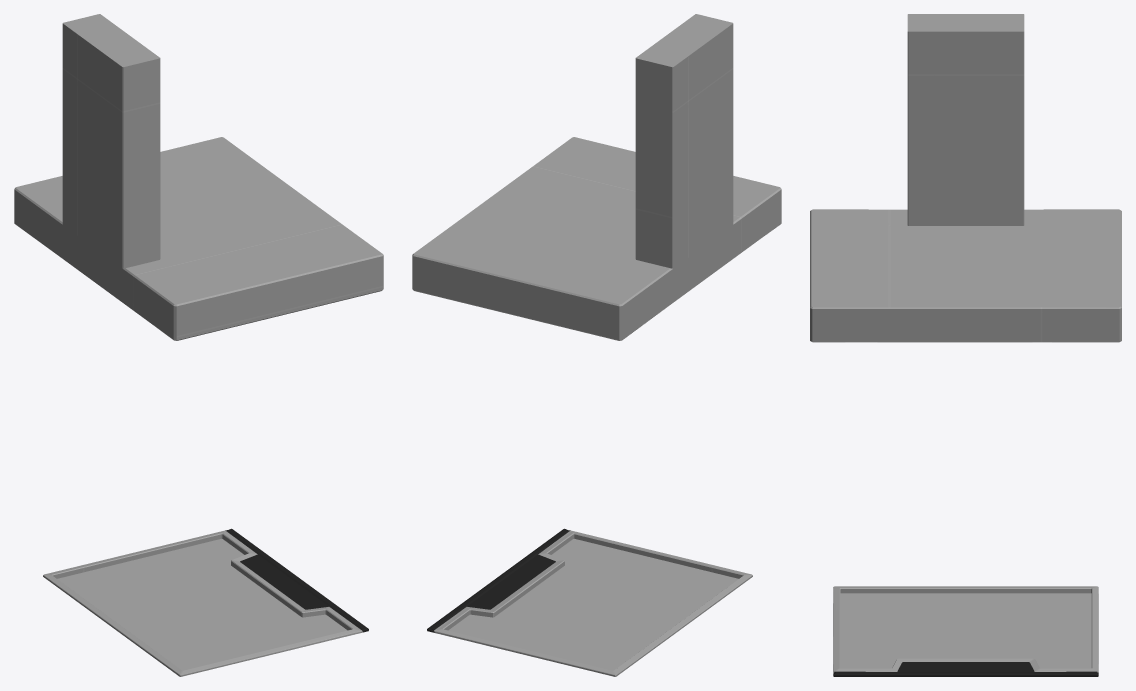
The model's file is OvenTop_9a36075c.obj.
3 views of the same model, side by side, from view 1: azimuth 30°, elevation 25°; view 2: azimuth 150°, elevation 25°; view 3: azimuth 270°, elevation 25° (orthographic). The views are drawn at different scales.
Visible parts, largest first — view 1: OvenTop_9a36075c; view 2: OvenTop_9a36075c; view 3: OvenTop_9a36075c.
Boxes of the visible parts, x1,y1,x2,y2 form: OvenTop_9a36075c: [14, 14, 383, 676]; OvenTop_9a36075c: [412, 14, 781, 676]; OvenTop_9a36075c: [810, 14, 1121, 676].
Size of the model in its own units: 0.604 by 1.61 by 0.8.
